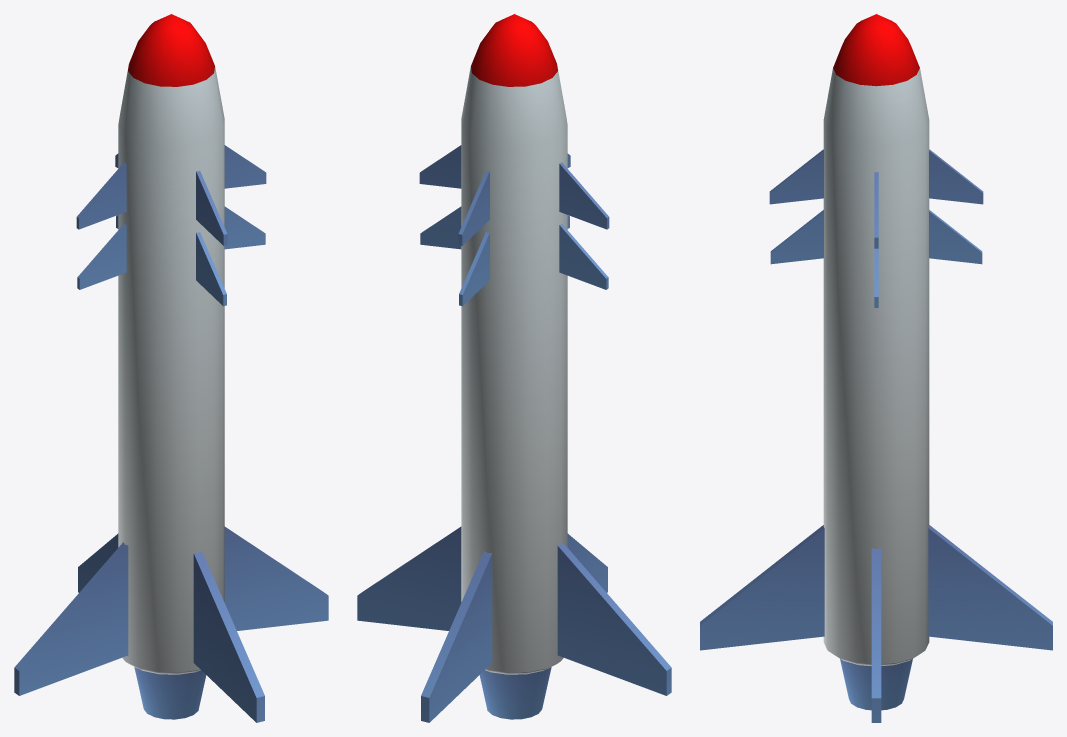
The model's file is rakieta.fbx.
The picture shows the model from 3 angles, left to right: view 1: azimuth 30°, elevation 25°; view 2: azimuth 150°, elevation 25°; view 3: azimuth 270°, elevation 25°; orthographic projection.
Parts seen in each view (by area): view 1: rakieta; view 2: rakieta; view 3: rakieta.
Part boxes in pixels (x1=…): rakieta: x1=14, y1=14, x2=328, y2=722; rakieta: x1=357, y1=14, x2=671, y2=722; rakieta: x1=700, y1=14, x2=1052, y2=722.
Size of the model in its own units: 71.84 by 154 by 71.84.
Materials: 1 (1 with a texture image).
